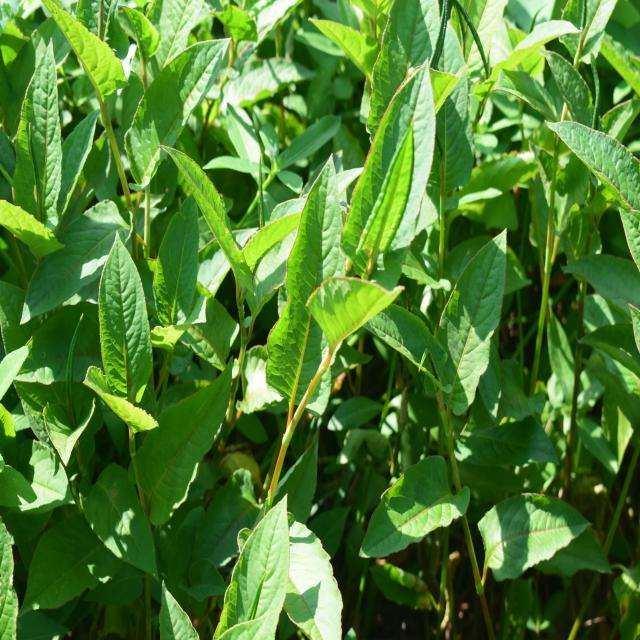Chinese_knotweed: (274, 67, 516, 448), (77, 199, 192, 472)
